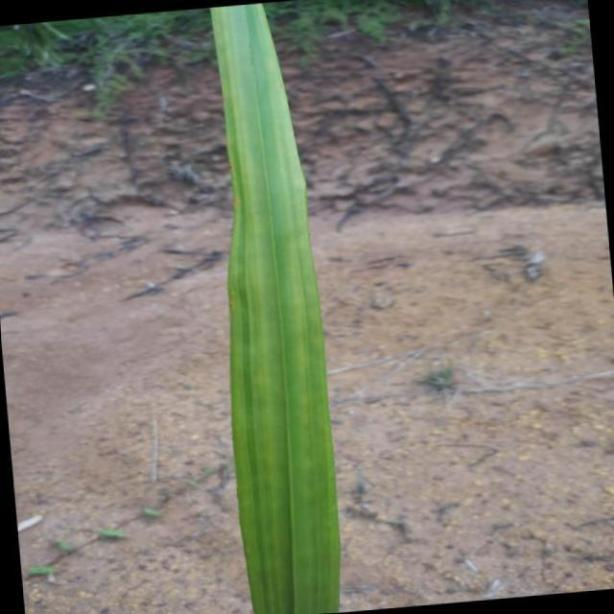nitrogen: (208, 0, 337, 614)
